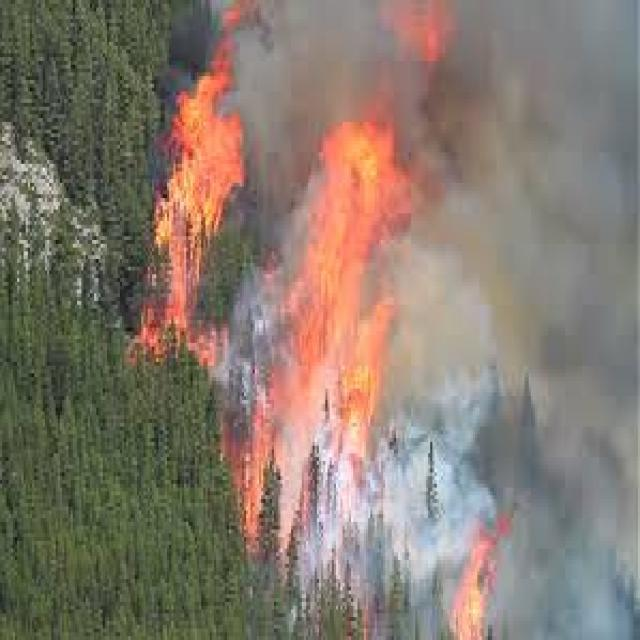Fire: (156, 106, 238, 347), (309, 152, 371, 420)
Smoke: (419, 73, 640, 400), (509, 408, 636, 634), (334, 451, 460, 582), (246, 8, 374, 122)
